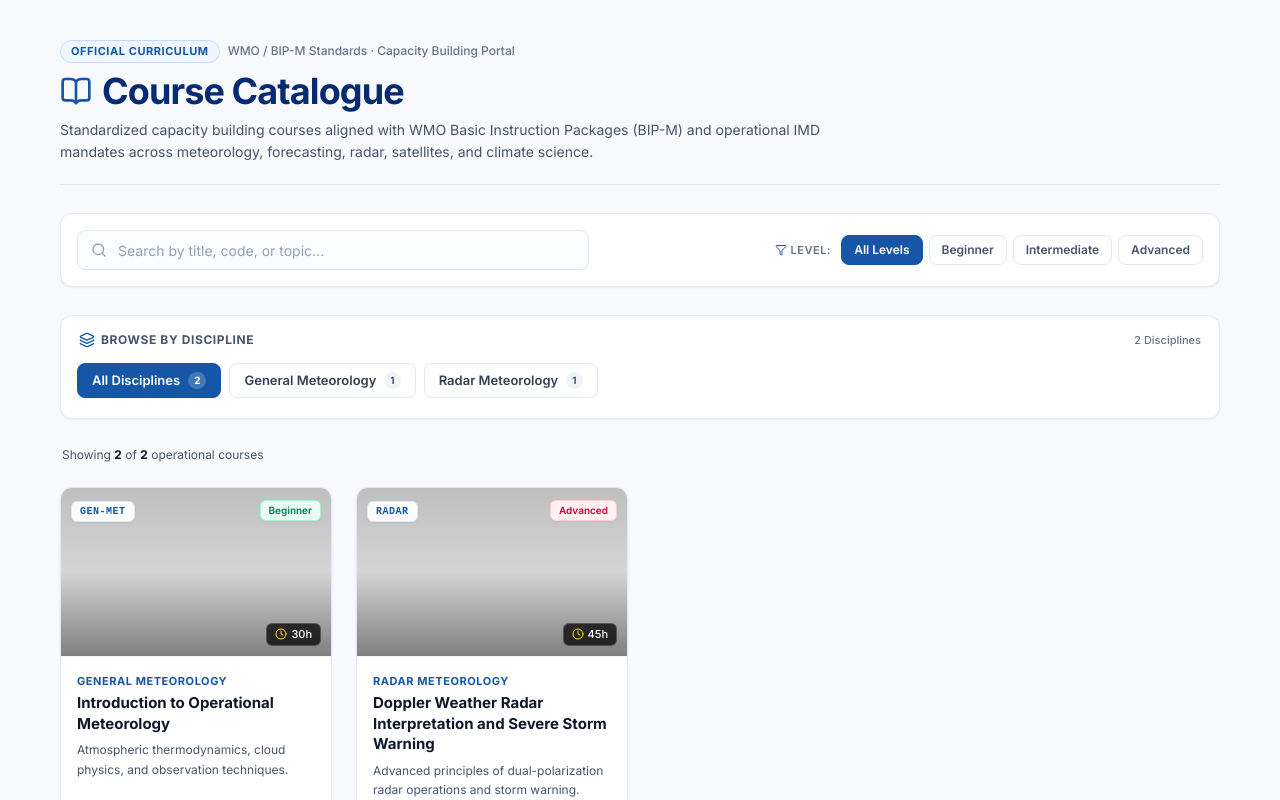
Test: Public Course Catalogue Responsive Redesign Suite › handles level filter buttons and resets filters cleanly
The image size is (1280, 800).
Expected: the heading "Introduction to Operational Meteorology" is shown, [77,693,274,733]
// Click 'Advanced' level
Click the button "Advanced".
click(1161, 250)  # box [1118,235,1203,265]
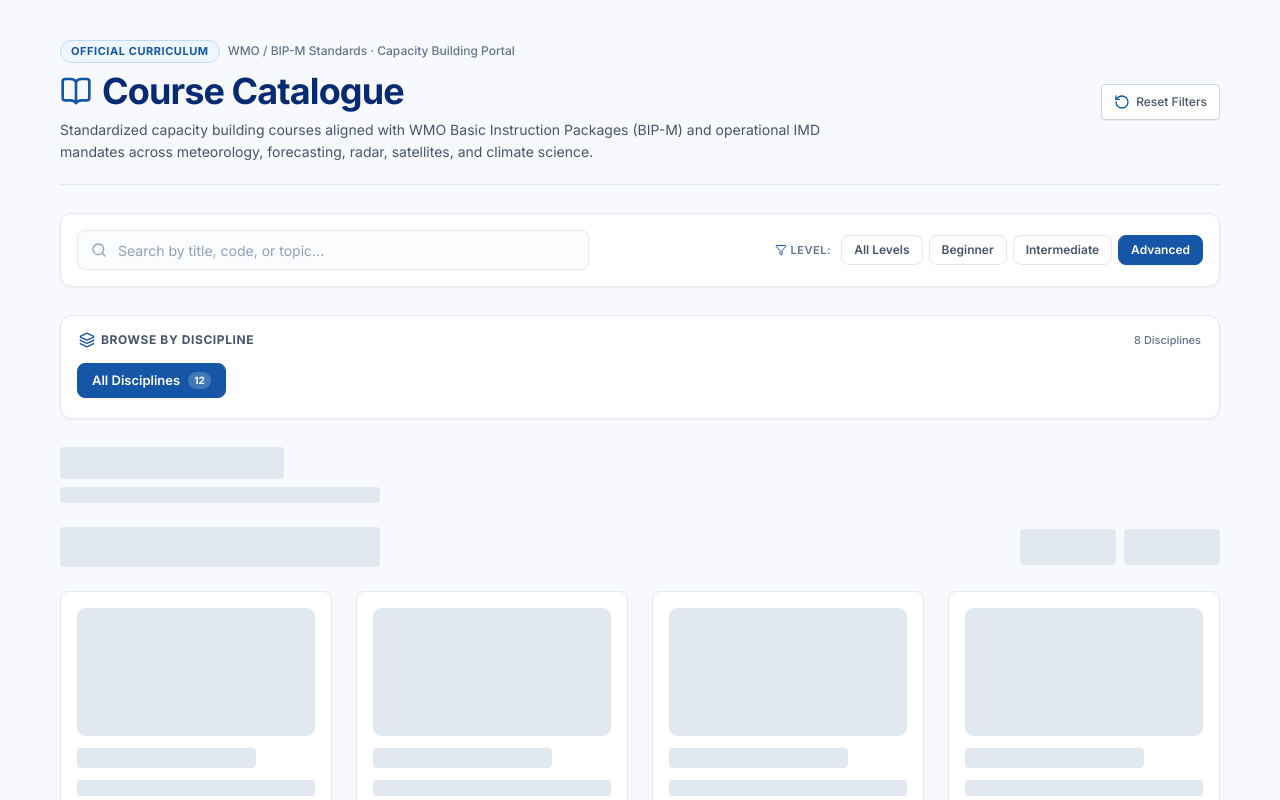
Result: the button "Reset Filters" is shown
// Click Reset
Click the button "Reset Filters".
click(1161, 102)  # box [1101,84,1220,120]
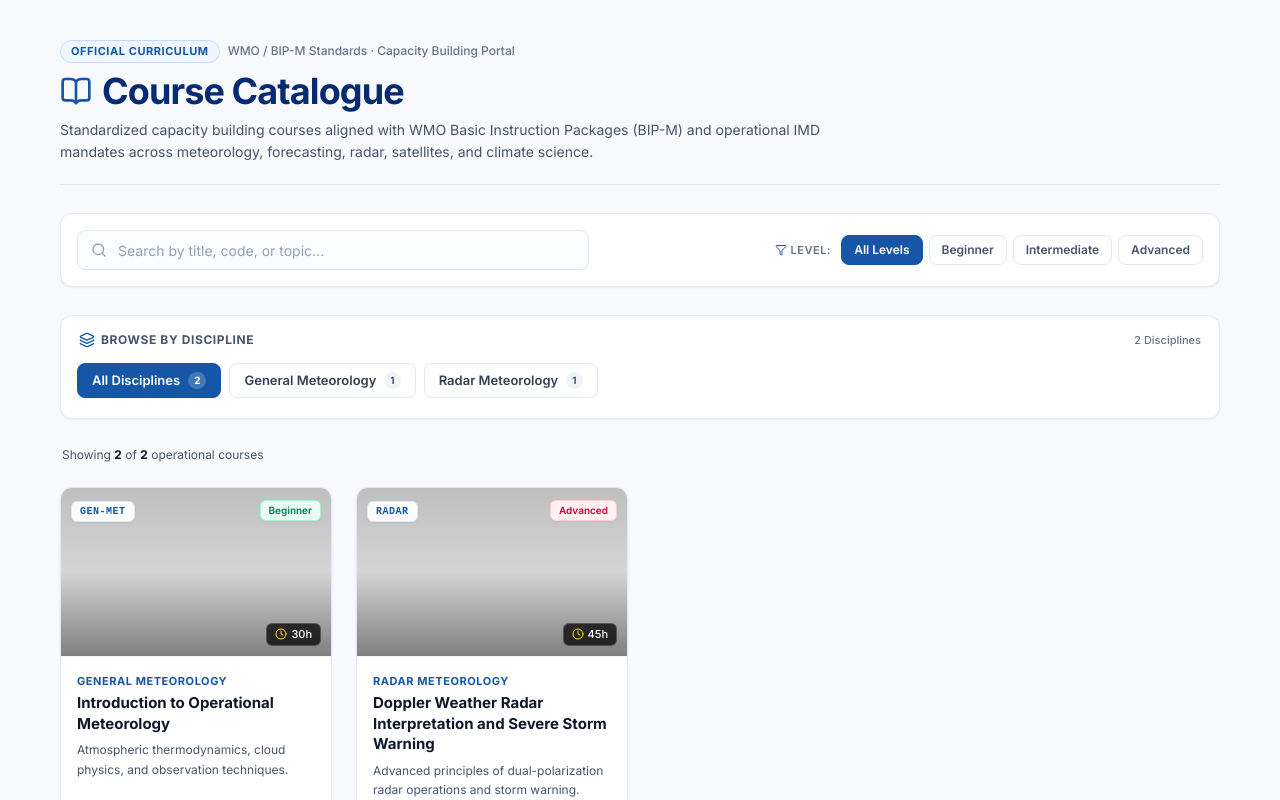
Result: the button "Reset Filters" is gone
